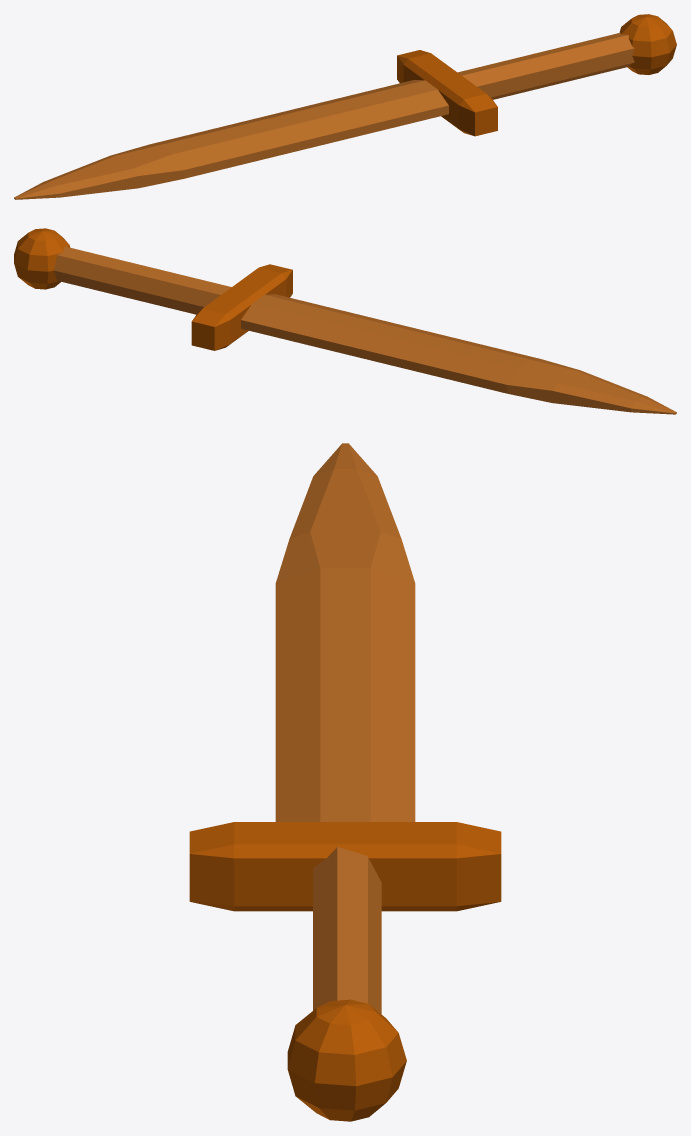
File: testingSword.fbx
3 views of the same model, one above another, from view 1: azimuth 30°, elevation 25°; view 2: azimuth 150°, elevation 25°; view 3: azimuth 270°, elevation 25° (orthographic). The views are drawn at different scales.
Visible parts, largest first — view 1: Cube.001, Cylinder, Cube, Sphere; view 2: Cube.001, Cylinder, Cube, Sphere; view 3: Cube.001, Cube, Sphere, Cylinder.
Part boxes in pixels (x1,y1,x2,y2): Cube.001: [14, 80, 448, 199]; Cylinder: [457, 32, 634, 99]; Cube: [397, 50, 497, 136]; Sphere: [619, 14, 676, 74]; Cube.001: [241, 294, 676, 414]; Cylinder: [54, 246, 231, 314]; Cube: [191, 264, 292, 350]; Sphere: [14, 228, 70, 289]; Cube.001: [275, 443, 415, 821]; Cube: [189, 822, 501, 911]; Sphere: [287, 999, 406, 1121]; Cylinder: [313, 847, 381, 1013].
Bounding box in the file's own units: 543 × 44 × 112.
